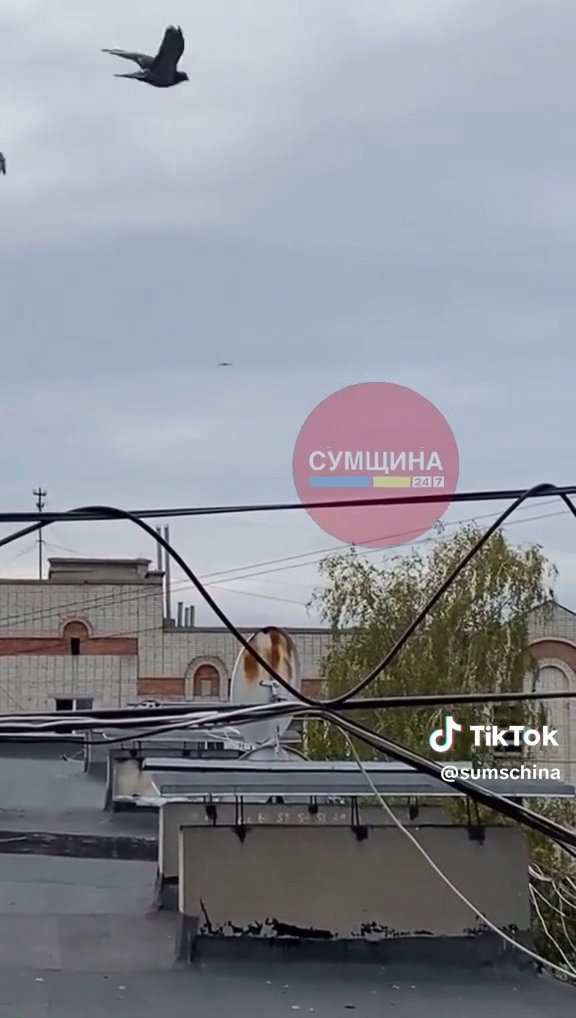not_drone: (90, 12, 215, 110)
